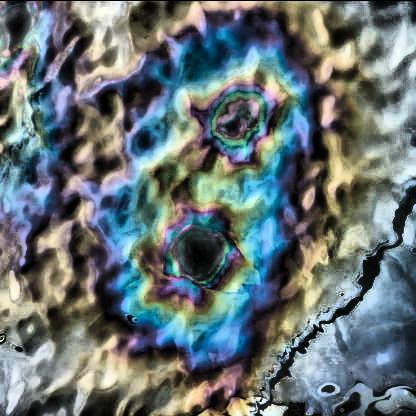rainbow: (98, 16, 316, 372)
